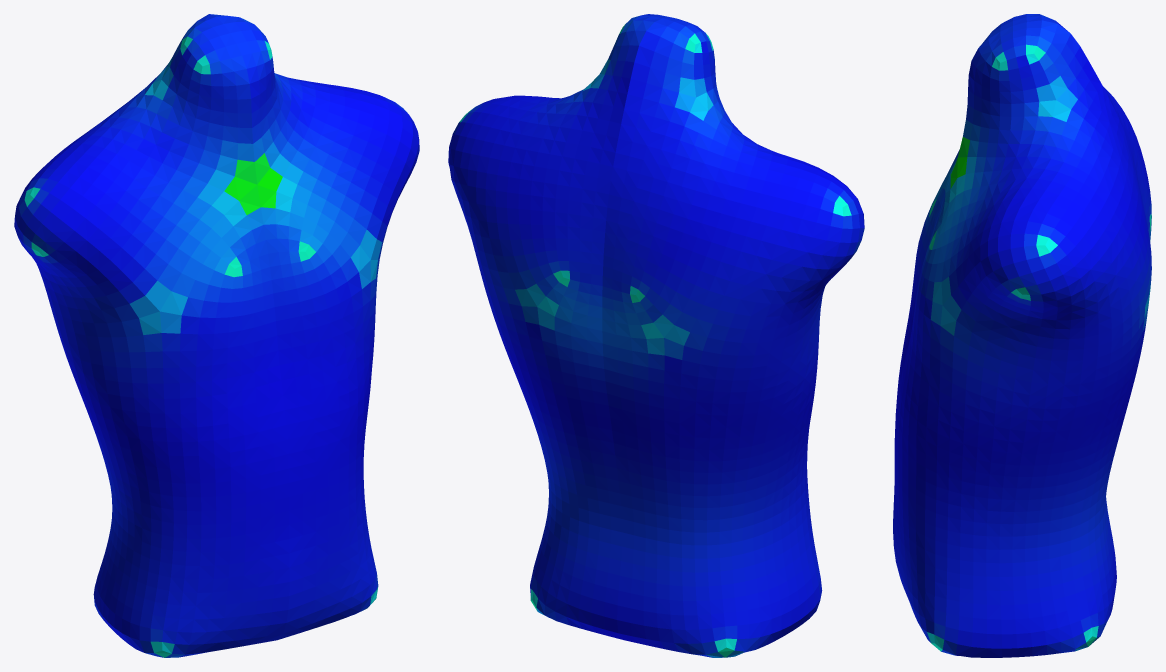
Rendered from mannequinquad_Refined2_opt_quality.obj.
The picture shows the model from 3 angles, left to right: view 1: azimuth 30°, elevation 25°; view 2: azimuth 150°, elevation 25°; view 3: azimuth 270°, elevation 25°; orthographic projection. The views are drawn at different scales.
Bounding box in the file's own units: 5.26 × 7.55 × 3.01.
